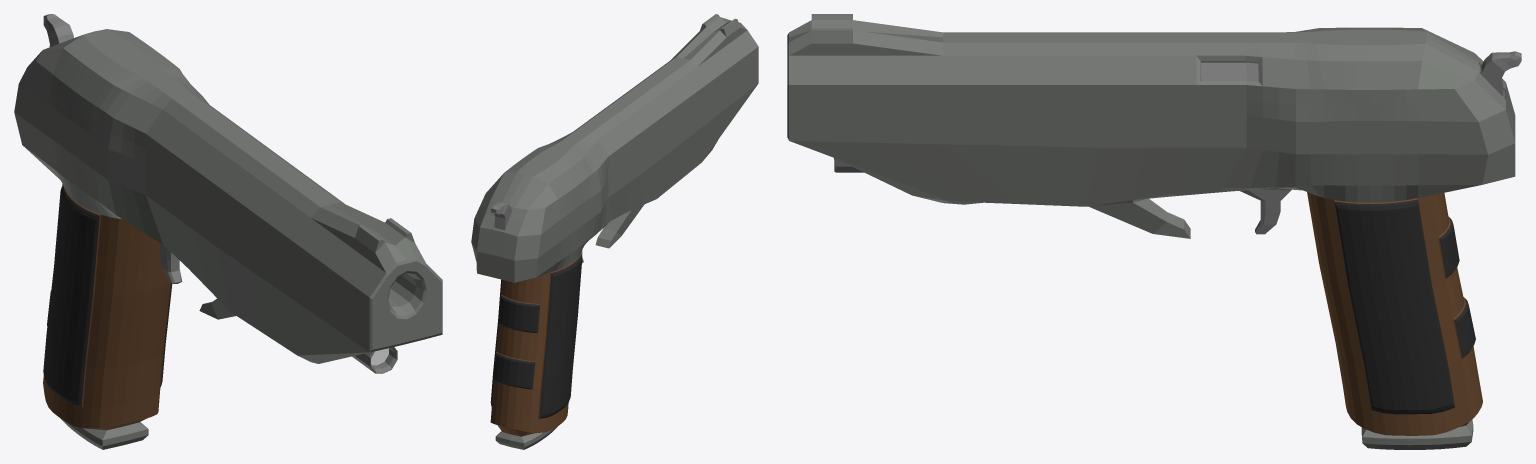
File: PISTOL_Projectv5.fbx
3 views of the same model, side by side, from view 1: azimuth 30°, elevation 25°; view 2: azimuth 150°, elevation 25°; view 3: azimuth 270°, elevation 25° (orthographic). The views are drawn at different scales.
Visible parts, largest first — view 1: Cylinder; view 2: Cylinder; view 3: Cylinder.
Part boxes in pixels (<box>): Cylinder: <box>14,14,442,449</box>; Cylinder: <box>471,14,758,449</box>; Cylinder: <box>787,14,1521,449</box>.
Size of the model in its own units: 0.2697 by 1.06 by 1.69.
